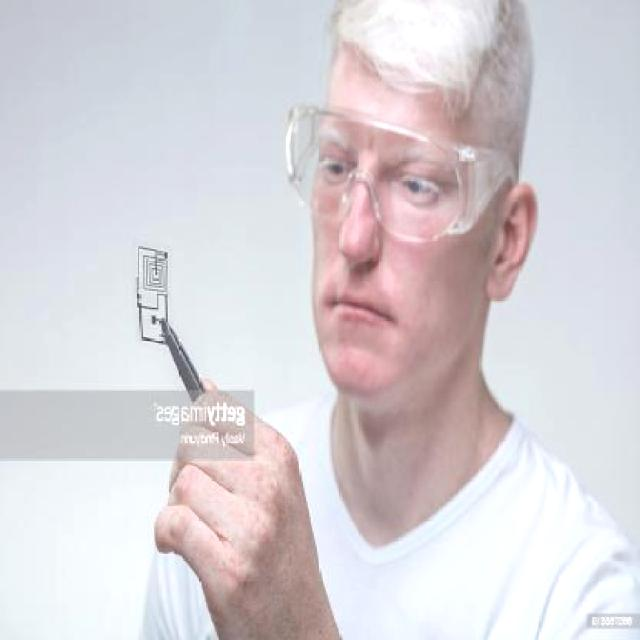face_nomask: (292, 134, 453, 354)
glasses: (282, 97, 518, 238)
hand_noglove: (152, 376, 314, 638)
head_nohelmet: (323, 0, 529, 106)
person: (157, 0, 617, 640)
